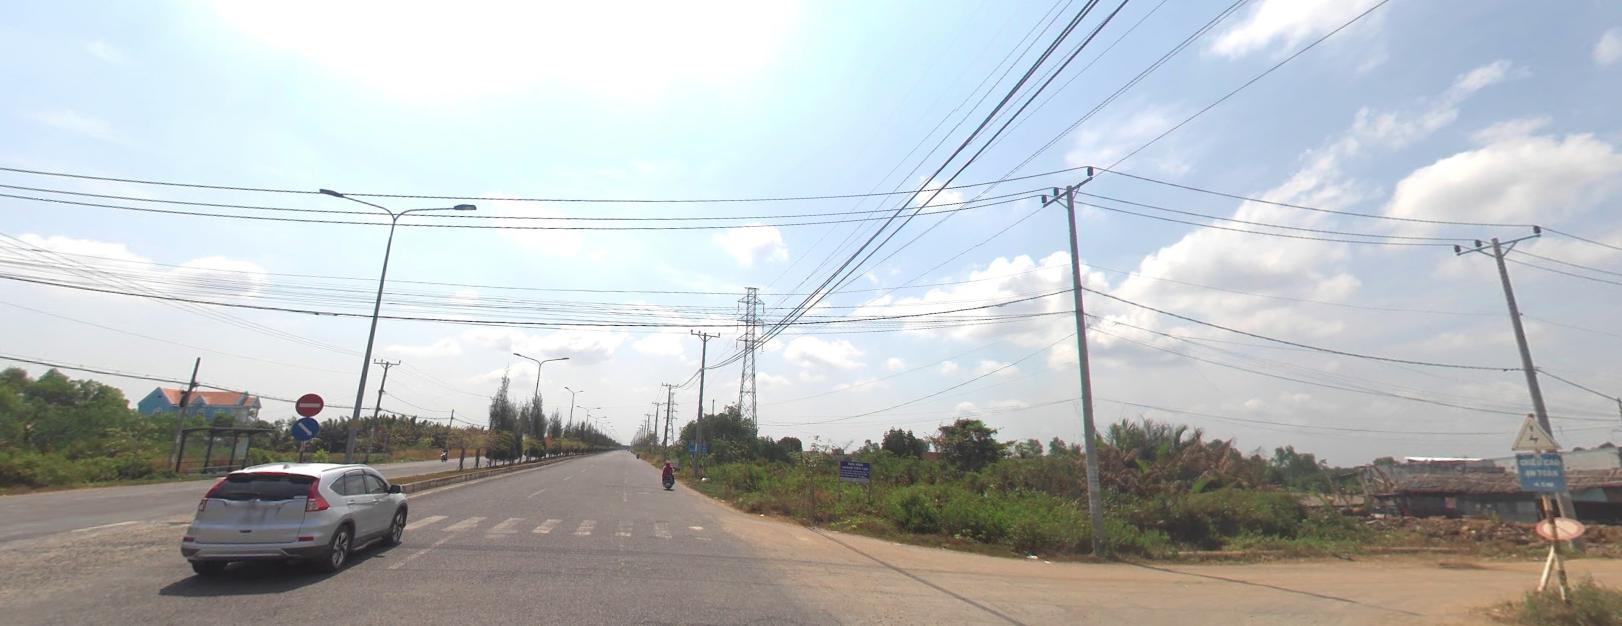Cam dung va do: (1534, 513, 1587, 539)
Cam nguoc chieu: (294, 391, 323, 415)
Hieu lenh: (290, 416, 320, 439)
Nguy hiem: (1508, 412, 1563, 450)
